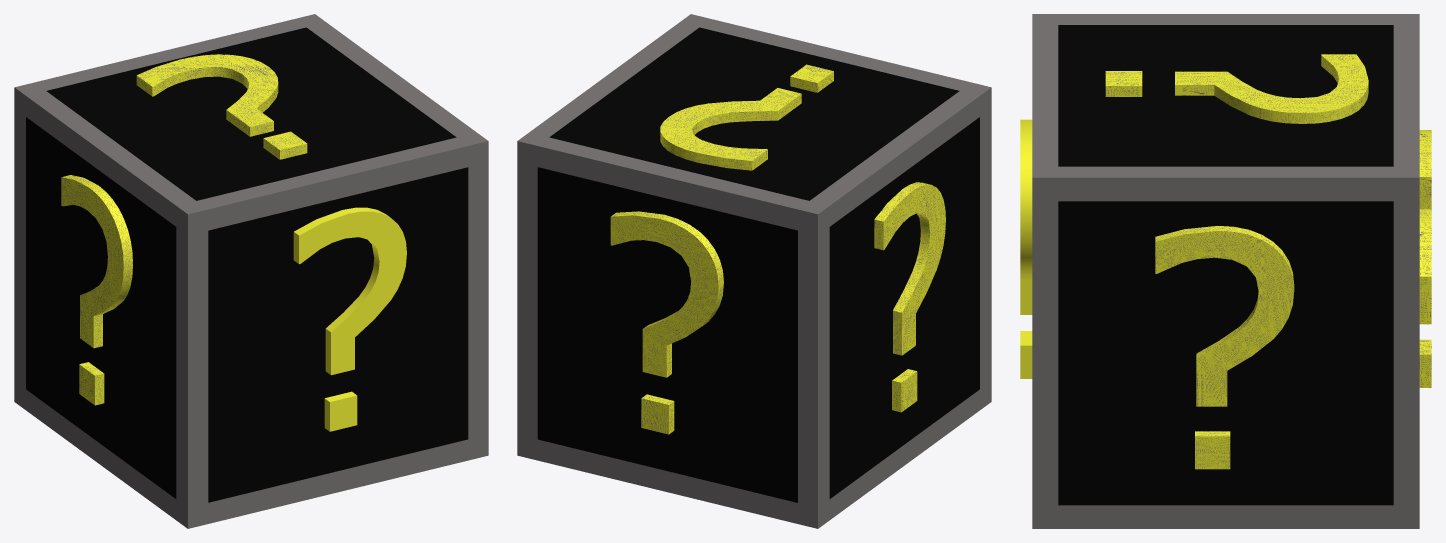
The model's file is mystery.dae.
3 views of the same model, side by side, from view 1: azimuth 30°, elevation 25°; view 2: azimuth 150°, elevation 25°; view 3: azimuth 270°, elevation 25° (orthographic). The views are drawn at different scales.
Parts seen in each view (by area): view 1: group_0 (×10); view 2: group_0 (×10); view 3: group_0 (×11).
Part boxes in pixels (left/top/right/bottom): group_0 (×10): left=14, top=14, right=488, bottom=528; group_0 (×10): left=517, top=14, right=991, bottom=528; group_0 (×11): left=1020, top=14, right=1431, bottom=528.
Size of the model in its own units: 2676 by 2676 by 2676.
